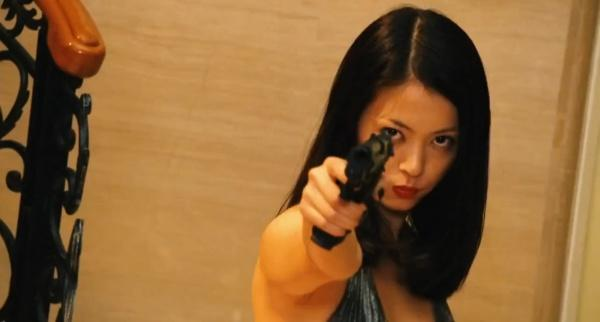Gun: (313, 130, 396, 252)
